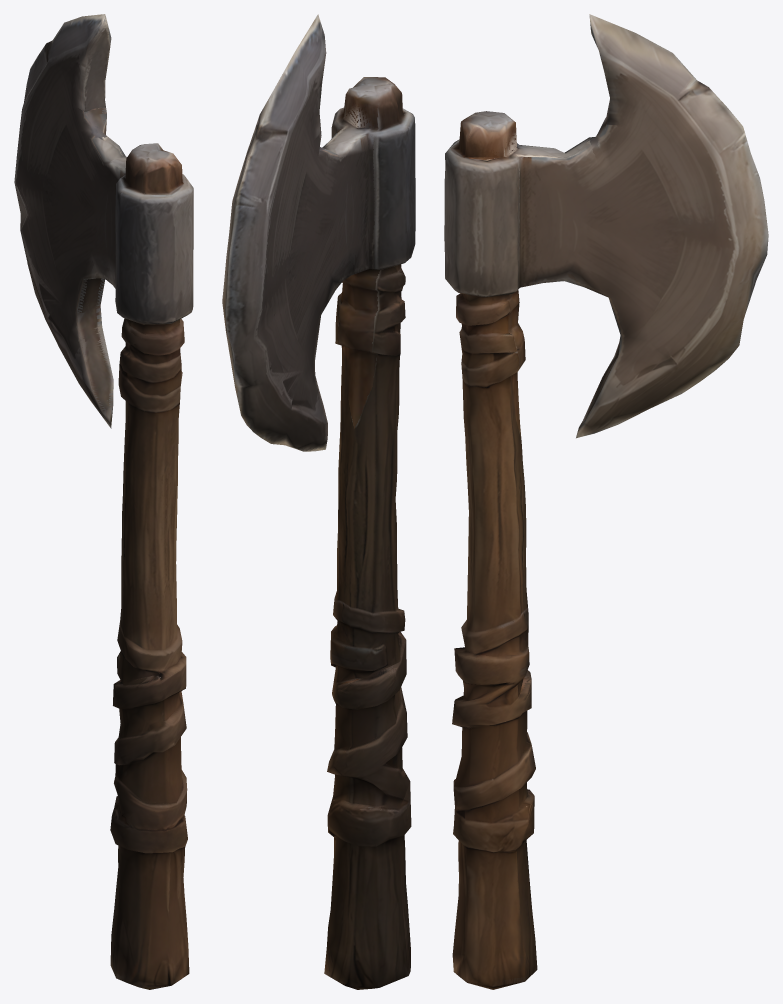
Rendered from Prop_Weapon_Greataxe.fbx.
3 views of the same model, side by side, from view 1: azimuth 30°, elevation 25°; view 2: azimuth 150°, elevation 25°; view 3: azimuth 270°, elevation 25° (orthographic). The views are drawn at different scales.
Visible parts, largest first — view 1: texture_mapping; view 2: texture_mapping; view 3: texture_mapping.
Boxes of the visible parts, x1,y1,x2,y2 form: texture_mapping: (14, 14, 193, 989); texture_mapping: (222, 14, 415, 989); texture_mapping: (444, 14, 768, 989).
Size of the model in its own units: 0.0789 by 0.3013 by 0.9991.
1 material, 1 textured.
